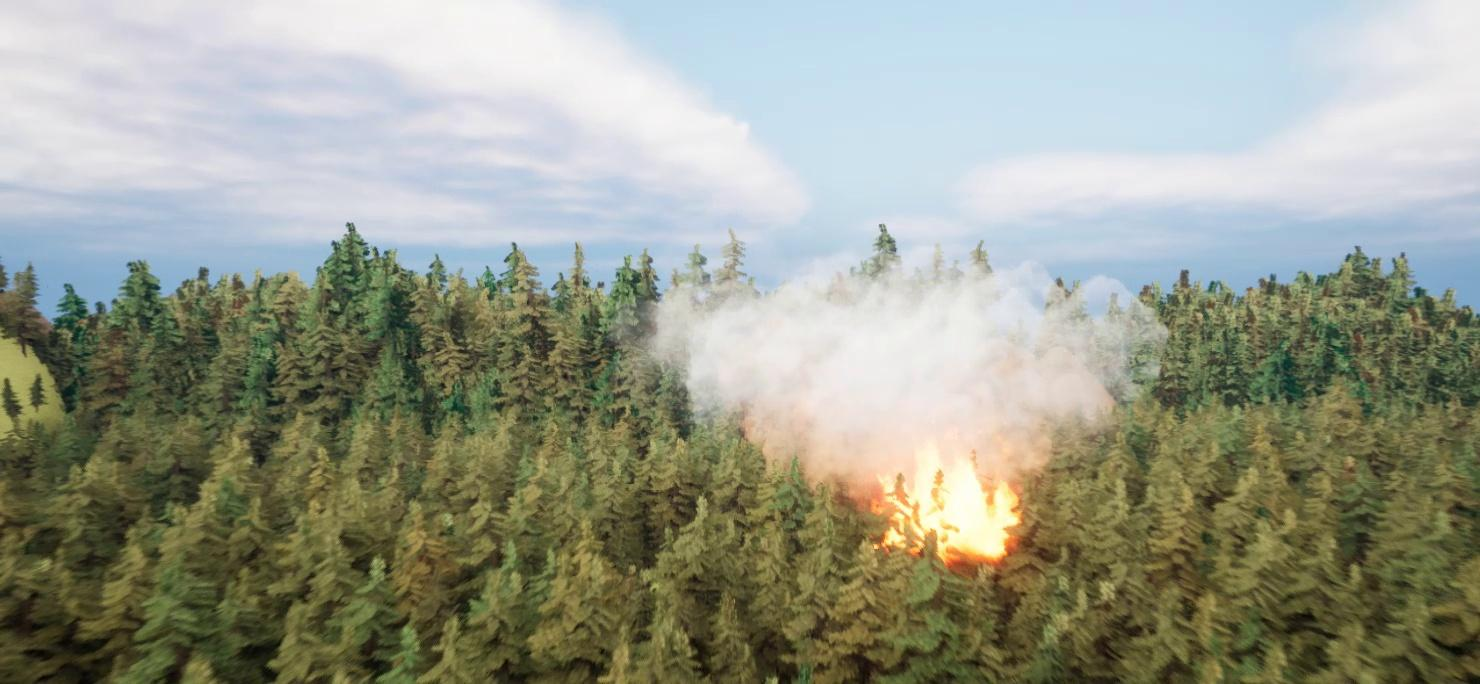fire: (867, 445, 1039, 568)
smoke: (639, 232, 1185, 491)
